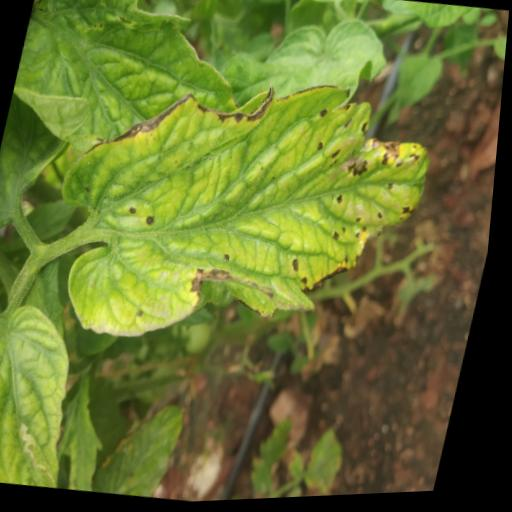Early Blight: (28, 47, 459, 383)
